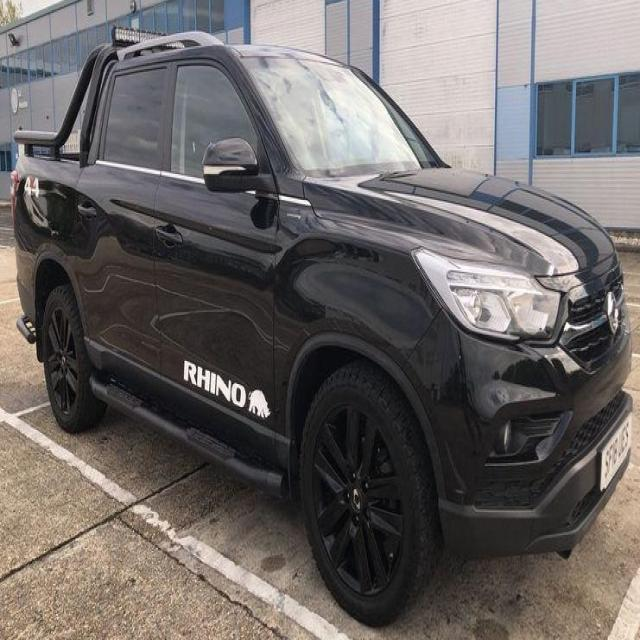CMT: (29, 24, 640, 601)
